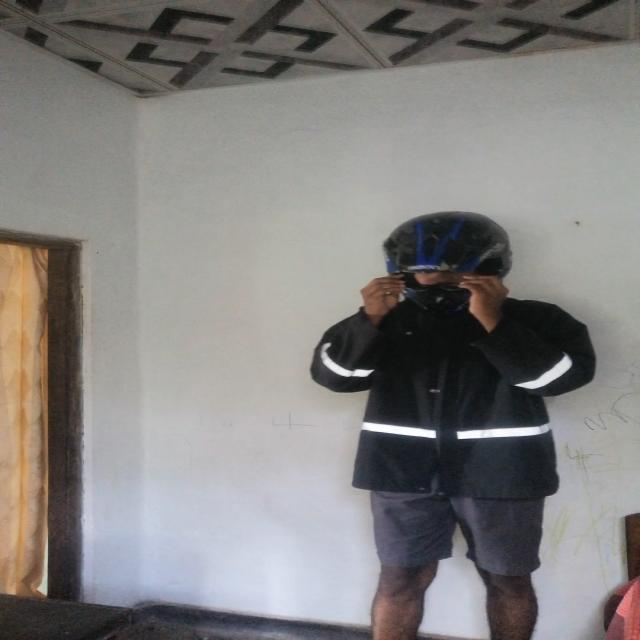Helmet_Wearer: (344, 208, 529, 314)
Jacket_Wearer: (310, 286, 596, 509)
Person: (296, 204, 604, 640)
